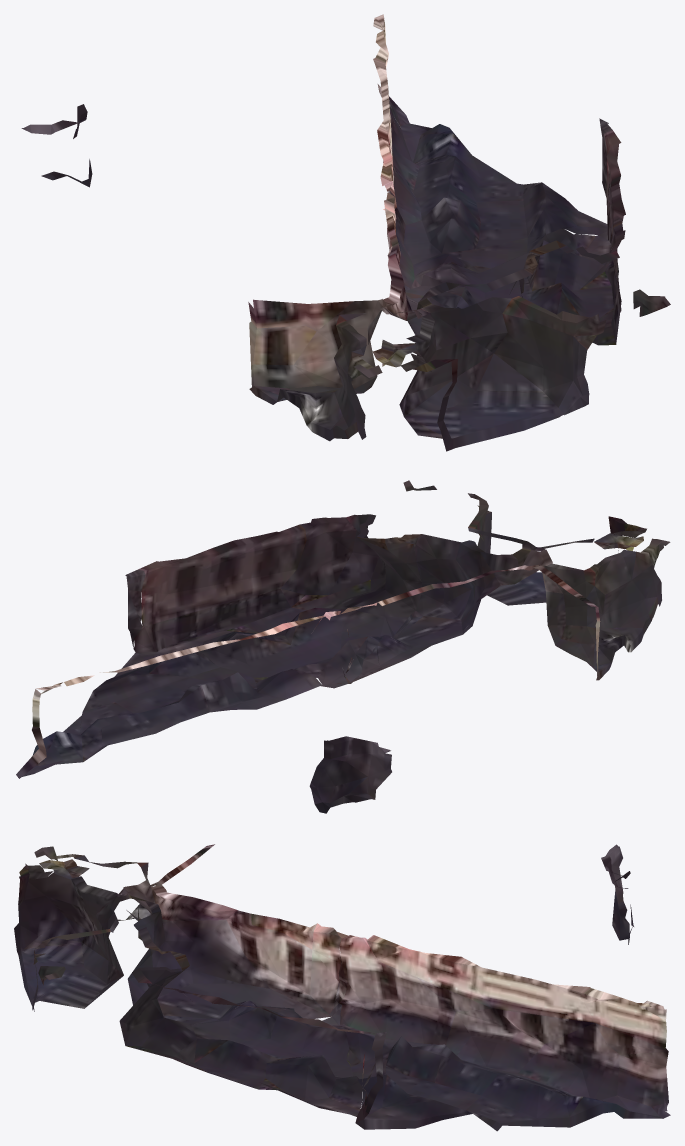
3 views of the same model, one above another, from view 1: azimuth 30°, elevation 25°; view 2: azimuth 150°, elevation 25°; view 3: azimuth 270°, elevation 25° (orthographic). The views are drawn at different scales.
Visible parts, largest first — view 1: Mesh_0; view 2: Mesh_0; view 3: Mesh_0.
Boxes of the visible parts, x1,y1,x2,y2 form: Mesh_0: (21,14,670,451); Mesh_0: (16,480,670,813); Mesh_0: (14,844,670,1131).
Size of the model in its own units: 28.47 by 7.38 by 41.18.
Materials: 1 (1 with a texture image).
